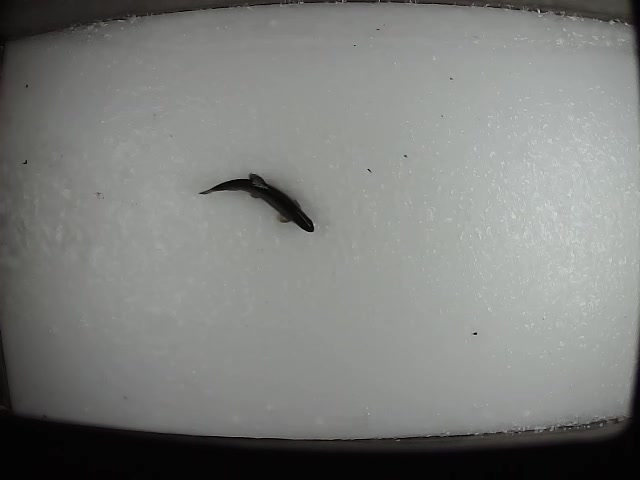fish: (196, 170, 317, 234)
